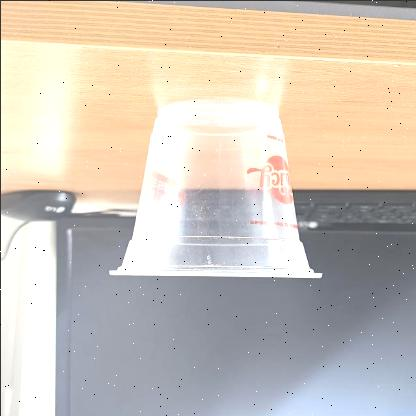Others: (106, 99, 322, 279)
